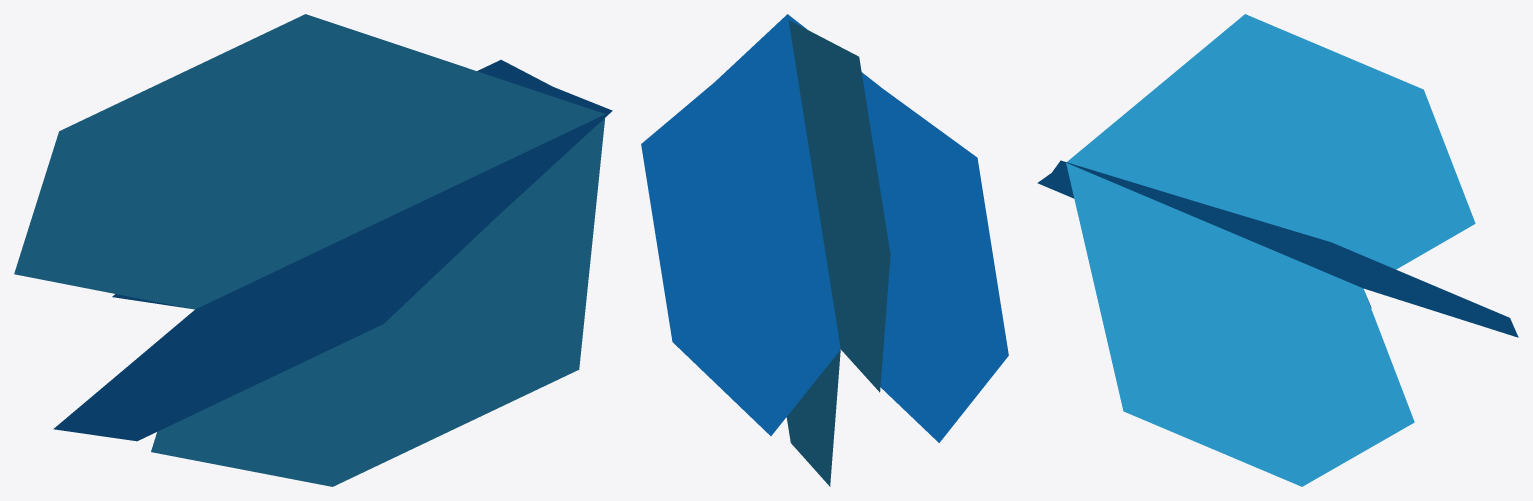
File: dart.glb
3 views of the same model, side by side, from view 1: azimuth 30°, elevation 25°; view 2: azimuth 150°, elevation 25°; view 3: azimuth 270°, elevation 25° (orthographic). The views are drawn at different scales.
Parts seen in each view (by area): view 1: Plane.001, Plane.002; view 2: Plane.002, Plane.001; view 3: Plane.001, Plane.002.
Boxes of the visible parts, box(x1,y1,x2,y2) form: Plane.001: box(14, 14, 605, 486); Plane.002: box(53, 59, 612, 441); Plane.002: box(641, 14, 1008, 442); Plane.001: box(786, 20, 890, 486); Plane.001: box(1066, 14, 1475, 486); Plane.002: box(1037, 160, 1518, 337).
Bounding box in the file's own units: 0.0888 × 0.1009 × 0.0984.
